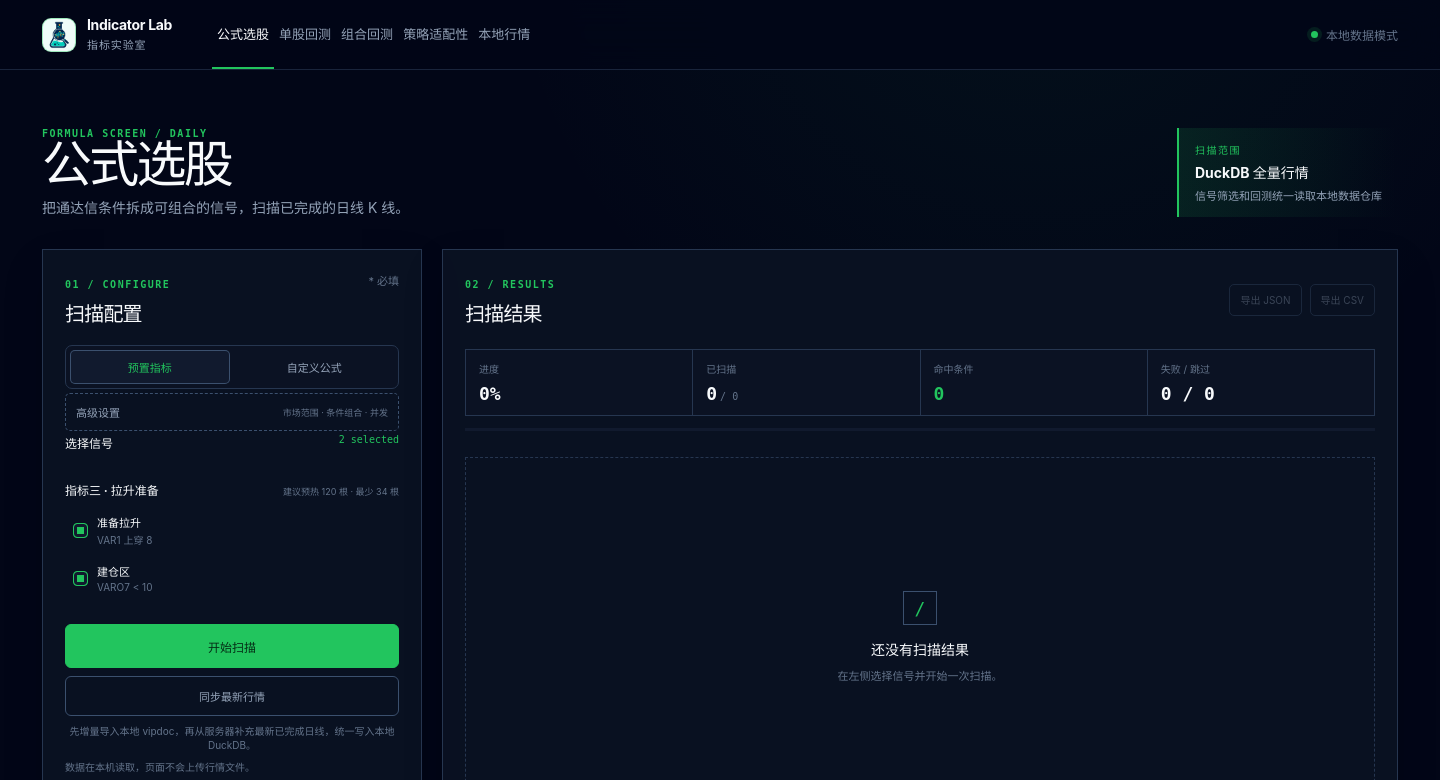
Test: FormulaScreenPage › validates a custom universe and an invalid minimum match count
This screenshot has width=1440, height=780.
Click the button with test id "advanced-toggle". click: (98,413)
box: top-left (65, 393), bottom-right (399, 431)
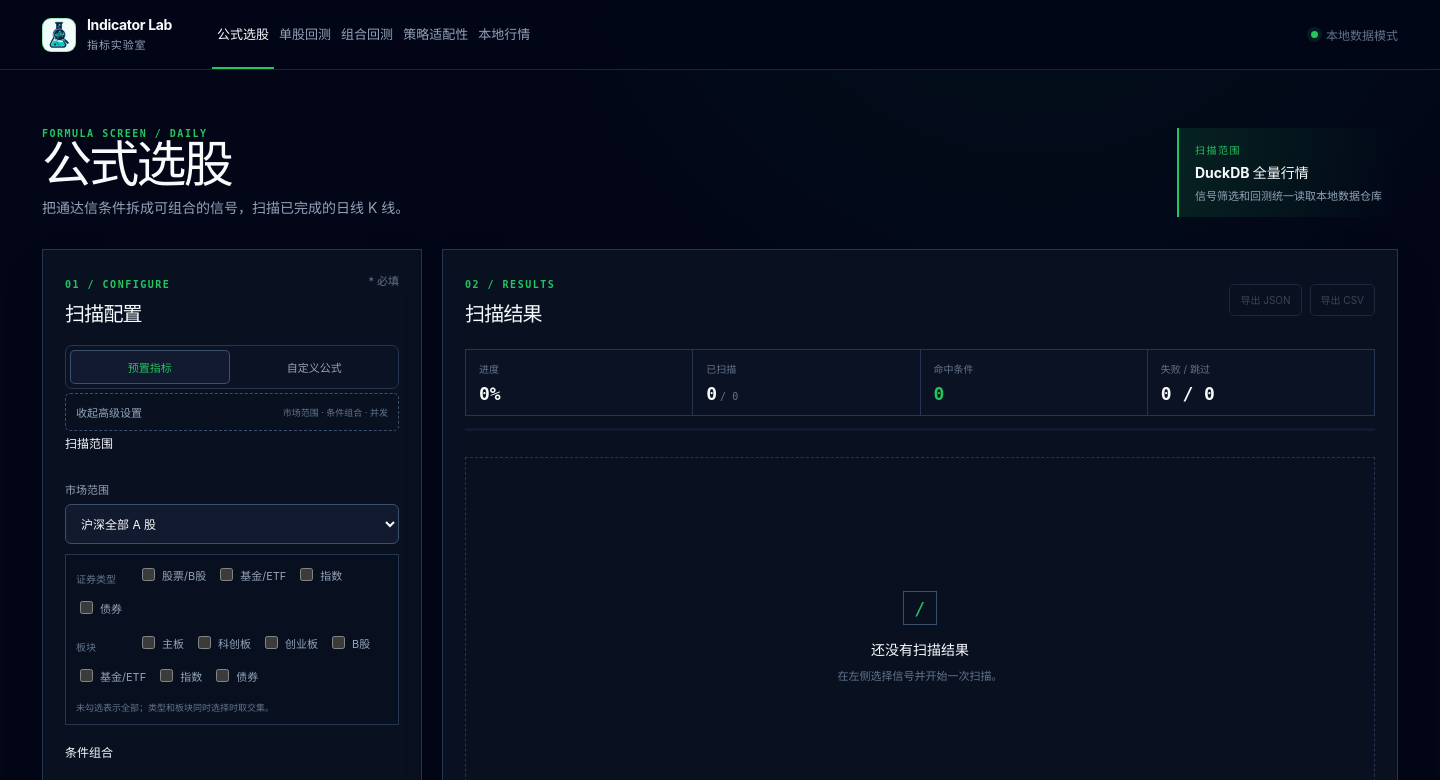
Select "自定义股票列表" in the dropdown with test id "universe". click: (232,524)
box: top-left (65, 504), bottom-right (399, 544)
(page scrolled)
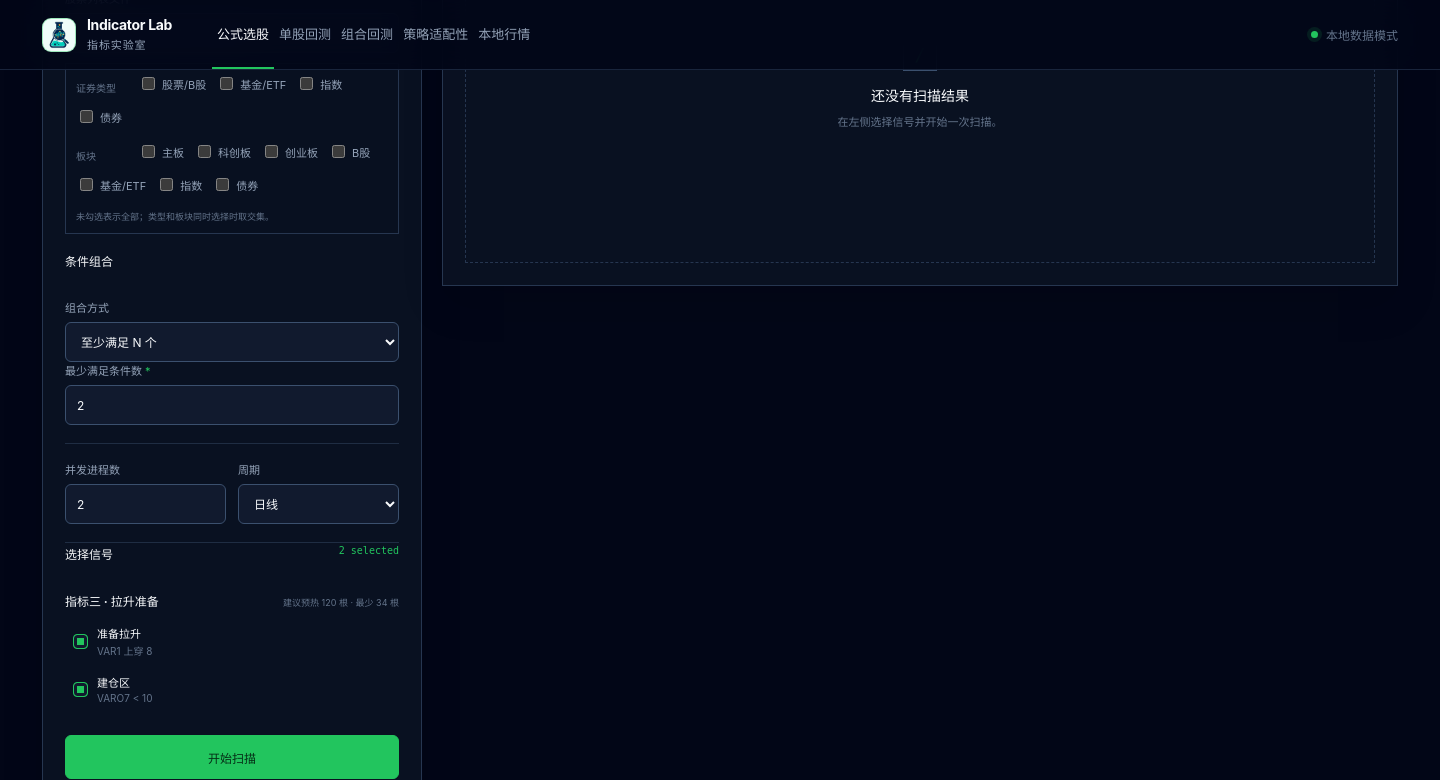
Replace the text in the number field with test id "minimum-matches" with "3". click: (232,405)
box: top-left (65, 385), bottom-right (399, 425)
(page scrolled)
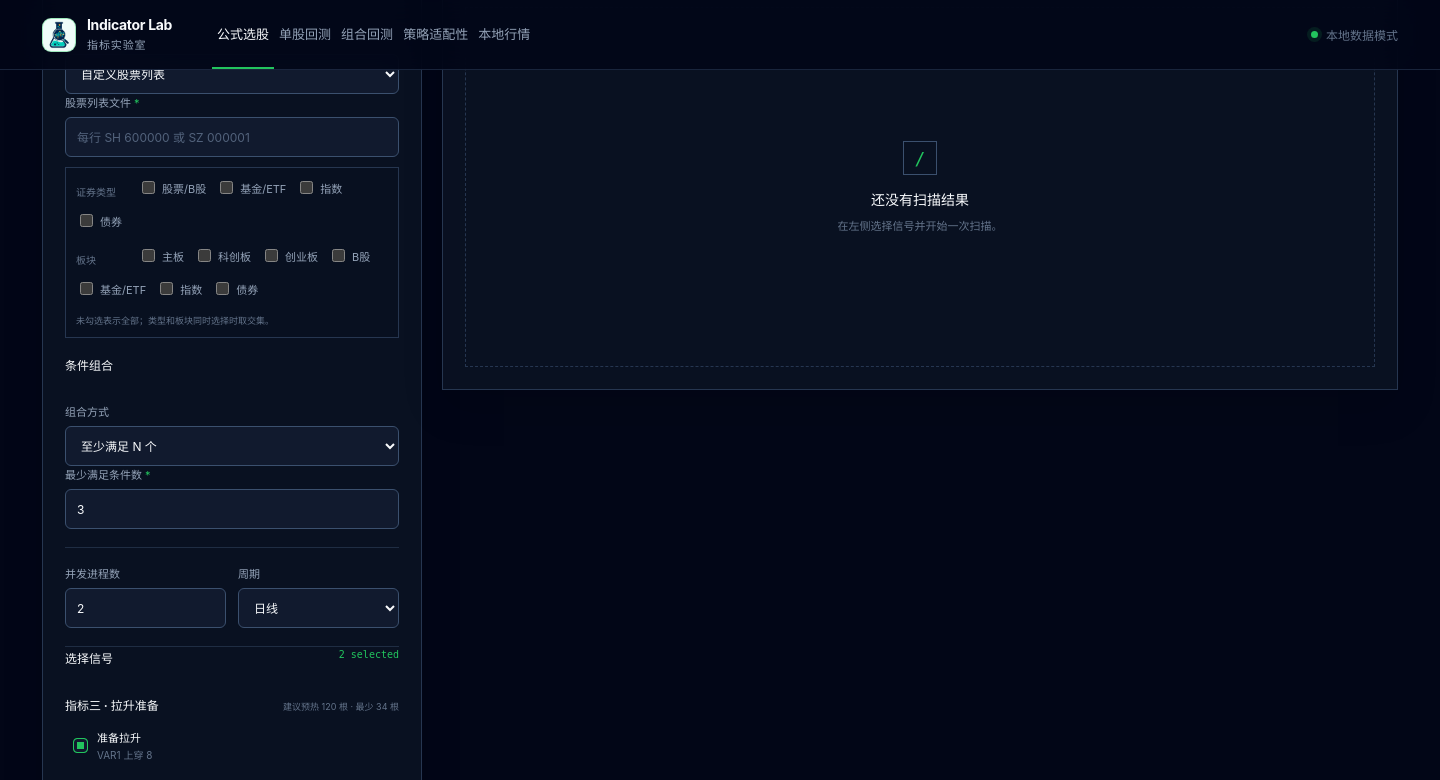
Submit the form with test id "screen-config"
(page scrolled)
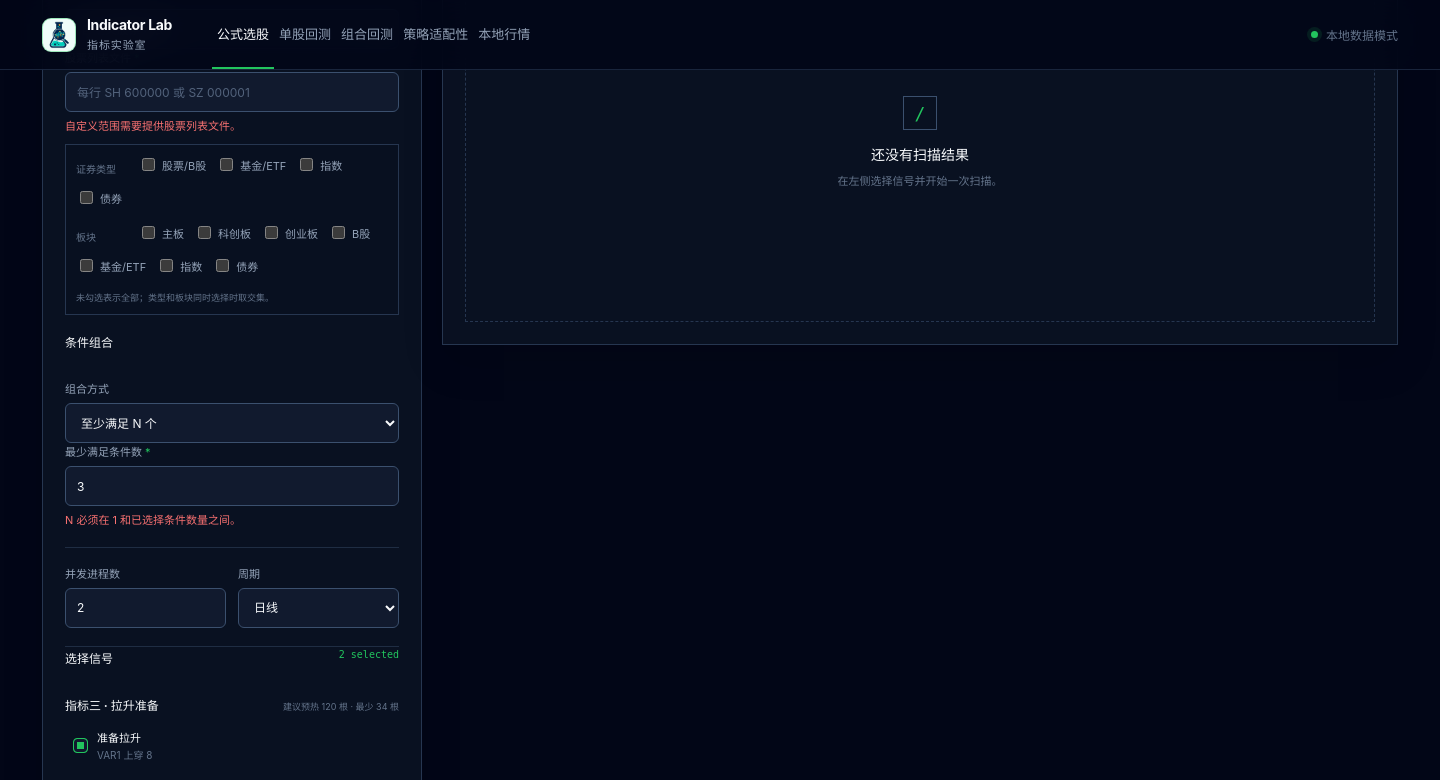
Check: the text "自定义范围需要提供股票列表文件" is shown, box top-left (65, 119), bottom-right (241, 133)
Check: the text "N 必须在 1 和已选择条件数量之间" is shown, box top-left (65, 513), bottom-right (241, 527)
